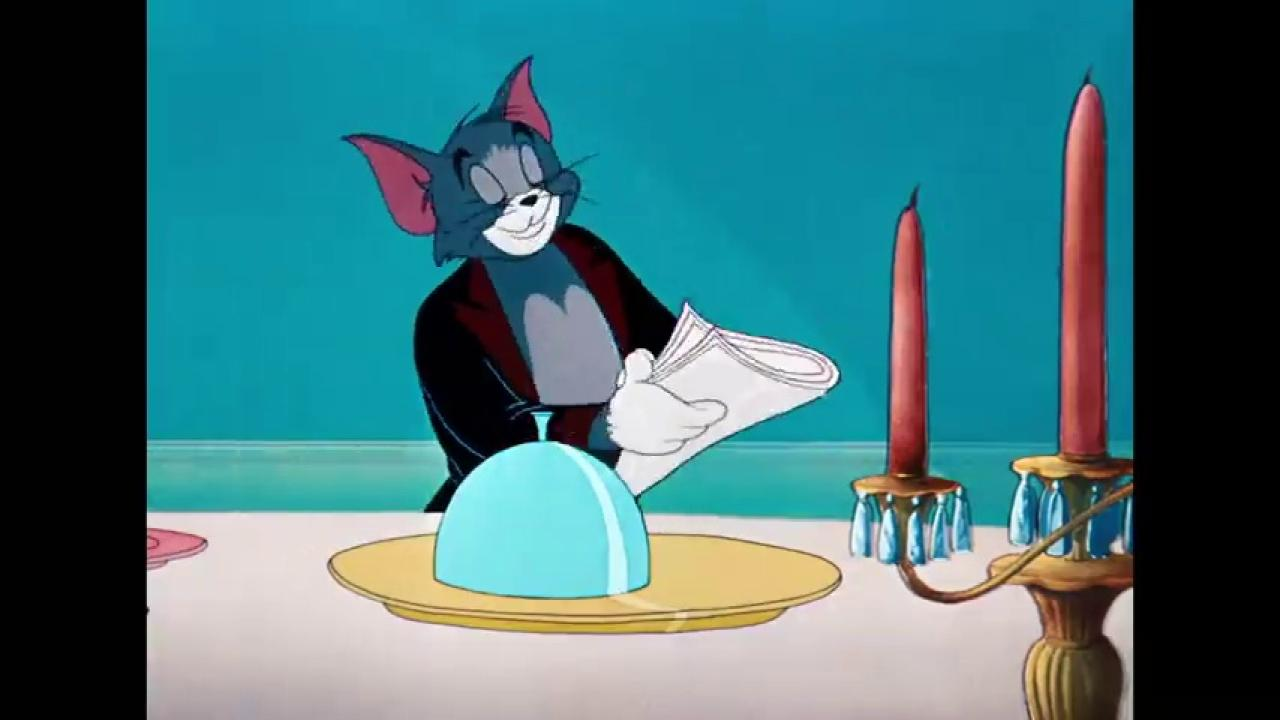Tom: (340, 53, 730, 515)
